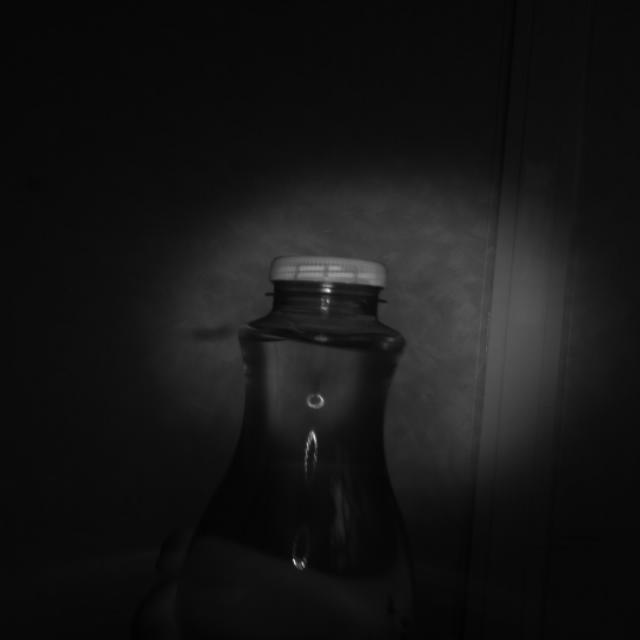Not Good: (270, 256, 388, 302)
